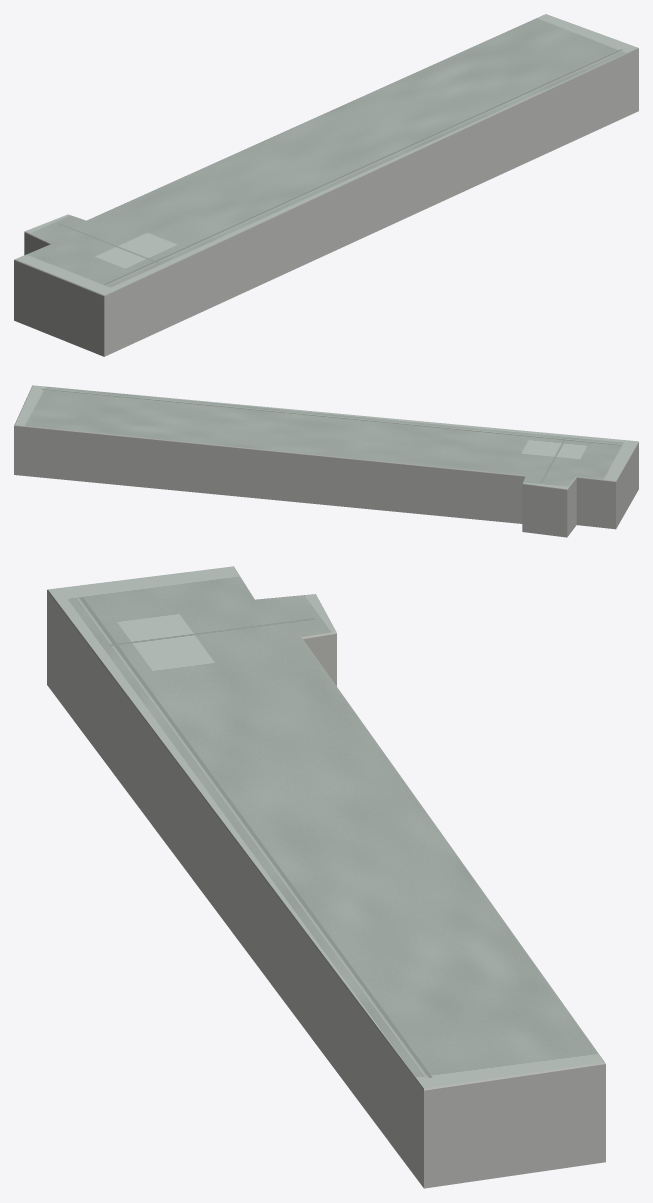
The model's file is fragments.glb.
3 views of the same model, one above another, from view 1: azimuth 30°, elevation 25°; view 2: azimuth 150°, elevation 25°; view 3: azimuth 270°, elevation 25° (orthographic). The views are drawn at different scales.
Visible parts, largest first — view 1: SM_gh1_Fragment_027, SM_gh1_Fragment_002, SM_gh1_Fragment_051, SM_gh1_Fragment_032, SM_gh1_Fragment_044, SM_gh1_Fragment_024, SM_gh1_Fragment_008, SM_gh1_Fragment_055, SM_gh1_Fragment_054, SM_gh1_Fragment_003, SM_gh1_Fragment_031, SM_gh1_Fragment_021 (+33 smaller); view 2: SM_gh1_Fragment_014, SM_gh1_Fragment_007, SM_gh1_Fragment_012, SM_gh1_Fragment_026, SM_gh1_Fragment_009, SM_gh1_Fragment_033, SM_gh1_Fragment_023, SM_gh1_Fragment_042, SM_gh1_Fragment_049, SM_gh1_Fragment_019, SM_gh1_Fragment_016, SM_gh1_Fragment_056 (+34 smaller); view 3: SM_gh1_Fragment_036, SM_gh1_Fragment_010, SM_gh1_Fragment_041, SM_gh1_Fragment_021, SM_gh1_Fragment_016, SM_gh1_Fragment_032, SM_gh1_Fragment_024, SM_gh1_Fragment_008, SM_gh1_Fragment_044, SM_gh1_Fragment_034, SM_gh1_Fragment_002, SM_gh1_Fragment_003 (+32 smaller).
Part boxes in pixels (box(x1,y1,x2,y2)): SM_gh1_Fragment_027: box(45, 270, 124, 332); SM_gh1_Fragment_002: box(314, 155, 380, 240); SM_gh1_Fragment_051: box(398, 124, 471, 208); SM_gh1_Fragment_032: box(489, 65, 572, 128); SM_gh1_Fragment_044: box(261, 180, 338, 247); SM_gh1_Fragment_024: box(456, 88, 527, 147); SM_gh1_Fragment_008: box(107, 252, 182, 314); SM_gh1_Fragment_055: box(551, 59, 608, 145); SM_gh1_Fragment_054: box(158, 230, 220, 307); SM_gh1_Fragment_003: box(173, 213, 252, 302); SM_gh1_Fragment_031: box(365, 138, 431, 193); SM_gh1_Fragment_021: box(386, 89, 466, 125); SM_gh1_Fragment_014: box(287, 435, 346, 504); SM_gh1_Fragment_007: box(206, 430, 261, 497); SM_gh1_Fragment_012: box(522, 471, 576, 526); SM_gh1_Fragment_026: box(55, 407, 115, 461); SM_gh1_Fragment_009: box(360, 445, 424, 501); SM_gh1_Fragment_033: box(323, 454, 388, 510); SM_gh1_Fragment_023: box(463, 453, 520, 507); SM_gh1_Fragment_042: box(240, 426, 300, 481); SM_gh1_Fragment_049: box(128, 424, 197, 469); SM_gh1_Fragment_019: box(158, 434, 211, 493); SM_gh1_Fragment_016: box(14, 410, 56, 466); SM_gh1_Fragment_056: box(424, 445, 492, 486); SM_gh1_Fragment_036: box(393, 1045, 495, 1144); SM_gh1_Fragment_010: box(434, 1024, 566, 1114); SM_gh1_Fragment_041: box(481, 1104, 605, 1180); SM_gh1_Fragment_021: box(313, 888, 463, 949); SM_gh1_Fragment_016: box(533, 1027, 605, 1146); SM_gh1_Fragment_032: box(345, 972, 453, 1082); SM_gh1_Fragment_024: box(305, 931, 425, 1029); SM_gh1_Fragment_008: box(61, 608, 160, 714); SM_gh1_Fragment_044: box(173, 754, 270, 842); SM_gh1_Fragment_034: box(252, 773, 394, 828); SM_gh1_Fragment_002: box(209, 799, 320, 925); SM_gh1_Fragment_003: box(127, 683, 234, 799).
Bounding box in the file's own units: 2.2 × 0.1953 × 0.9925.
Materials: 4 (1 with a texture image).
